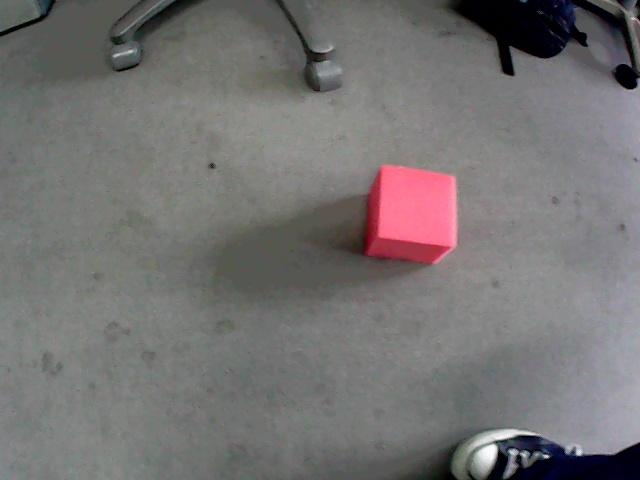red_block: (365, 166, 456, 263)
